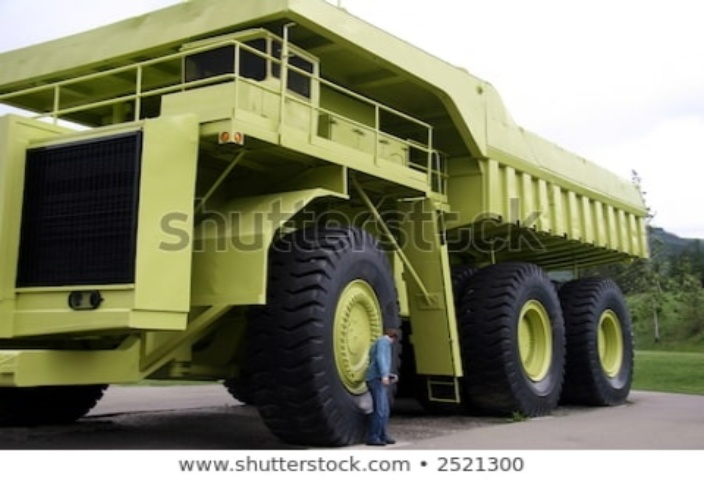industrial: (1, 23, 668, 443)
